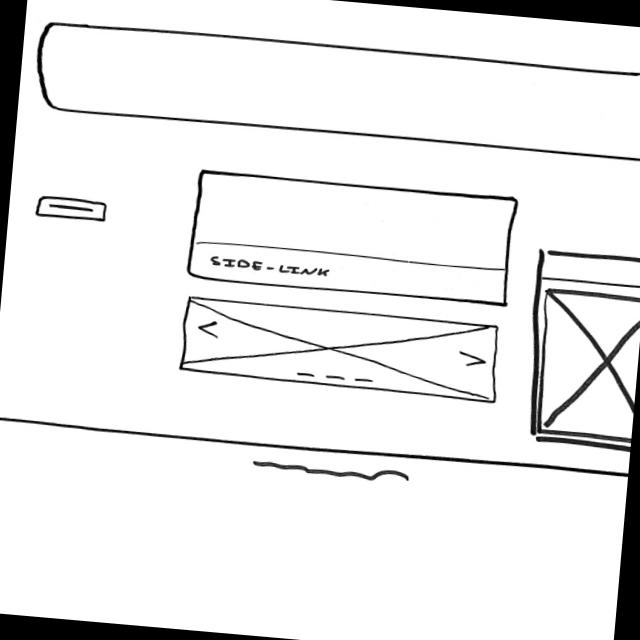container: (31, 18, 640, 162), (183, 167, 518, 307), (517, 245, 640, 452)
icon-button: (33, 194, 108, 223)
image: (177, 293, 503, 405), (531, 285, 640, 441)
label: (205, 254, 332, 278)
text: (250, 454, 412, 486)
